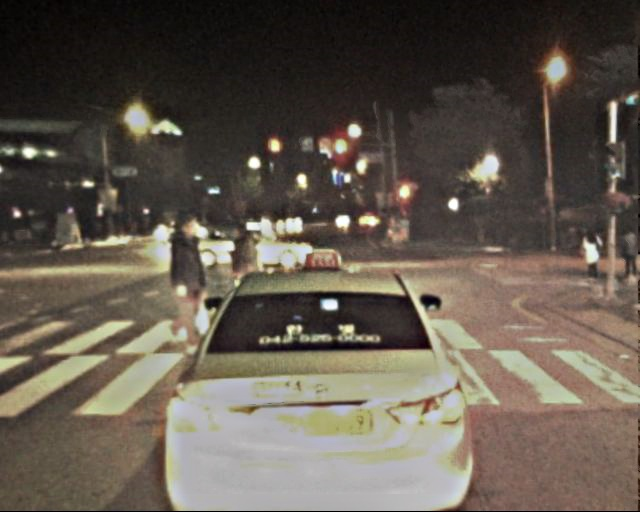person: (153, 215, 208, 350), (221, 225, 264, 329), (582, 225, 605, 282), (618, 226, 640, 281)
